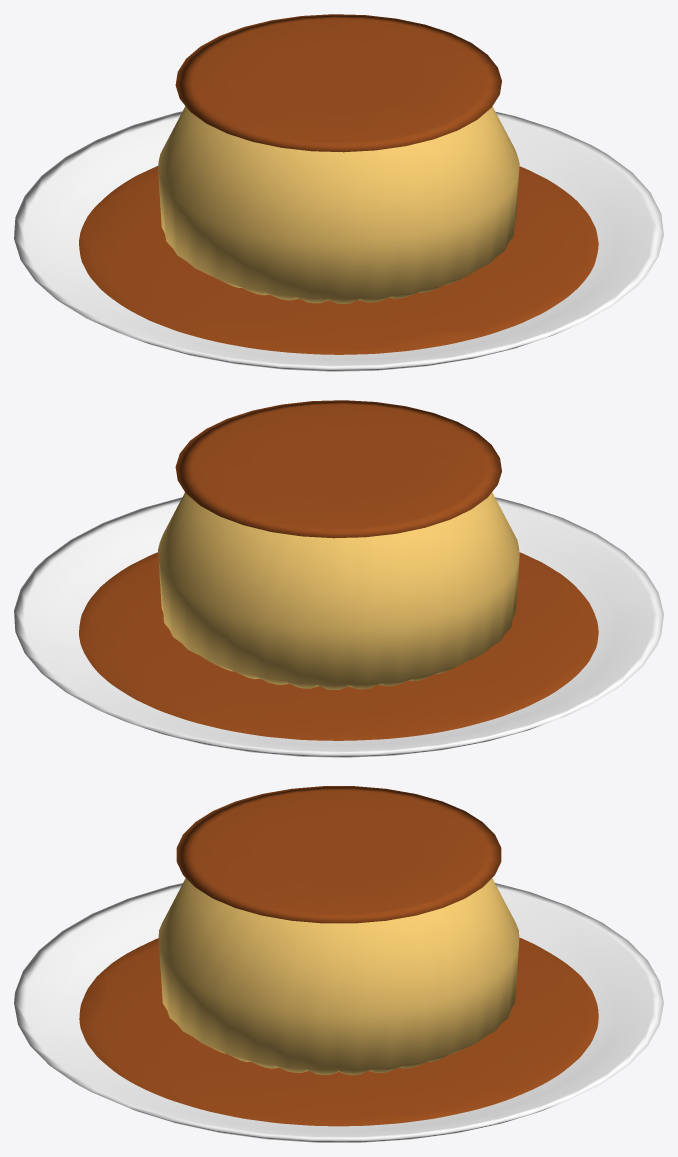
The model's file is comida_flan.glb.
3 renders of one model, top to bottom at view 1: azimuth 30°, elevation 25°; view 2: azimuth 150°, elevation 25°; view 3: azimuth 270°, elevation 25°, orthographic.
Parts seen in each view (by area): view 1: flan.001, charco caramelo.001, plato.010, caramelo.001; view 2: flan.001, charco caramelo.001, plato.010, caramelo.001; view 3: flan.001, charco caramelo.001, plato.010, caramelo.001.
Boxes of the visible parts, box(x1,y1,x2,y2) form: flan.001: box(158, 106, 519, 303); charco caramelo.001: box(79, 166, 598, 354); plato.010: box(14, 111, 663, 371); caramelo.001: box(175, 14, 501, 152); flan.001: box(158, 492, 519, 689); charco caramelo.001: box(79, 552, 598, 740); plato.010: box(14, 497, 663, 757); caramelo.001: box(175, 400, 501, 538); flan.001: box(158, 878, 519, 1075); charco caramelo.001: box(79, 937, 598, 1126); plato.010: box(14, 883, 663, 1142); caramelo.001: box(176, 786, 501, 923).
Bounding box in the file's own units: 0.3372 × 0.1177 × 0.3378.
